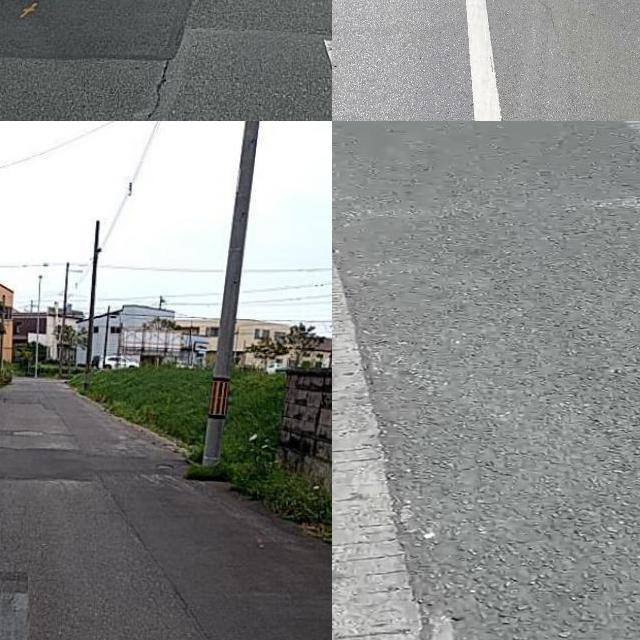Sambungan: (0, 0, 185, 64), (0, 449, 170, 480)
